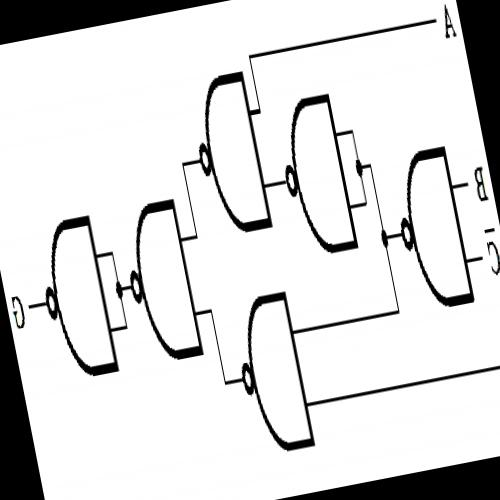nand: (21, 199, 127, 392), (264, 81, 368, 271), (178, 55, 278, 250), (110, 185, 210, 376), (380, 133, 480, 323), (221, 279, 320, 468)
